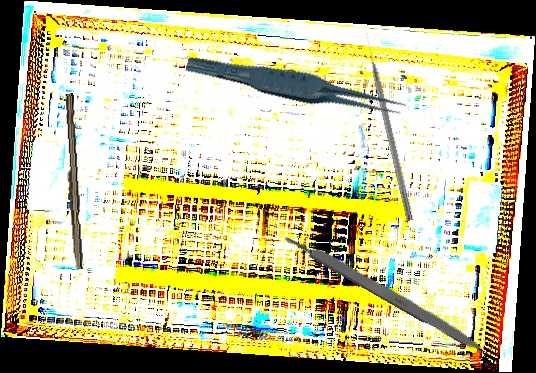Hook Surgical: (362, 31, 415, 222)
Scalpel Handle: (280, 227, 492, 358), (60, 93, 86, 270)
Tissue Forceps: (184, 40, 408, 134)
